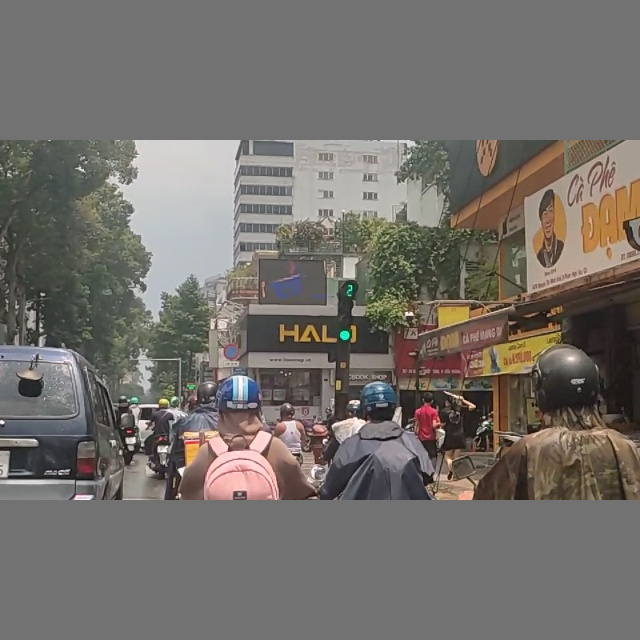P.131a: (223, 344, 241, 359)
